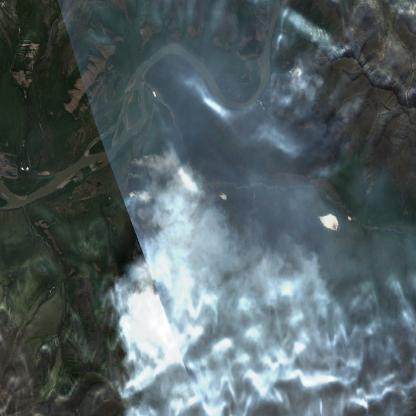fire: (122, 146, 202, 360), (266, 52, 303, 96)
